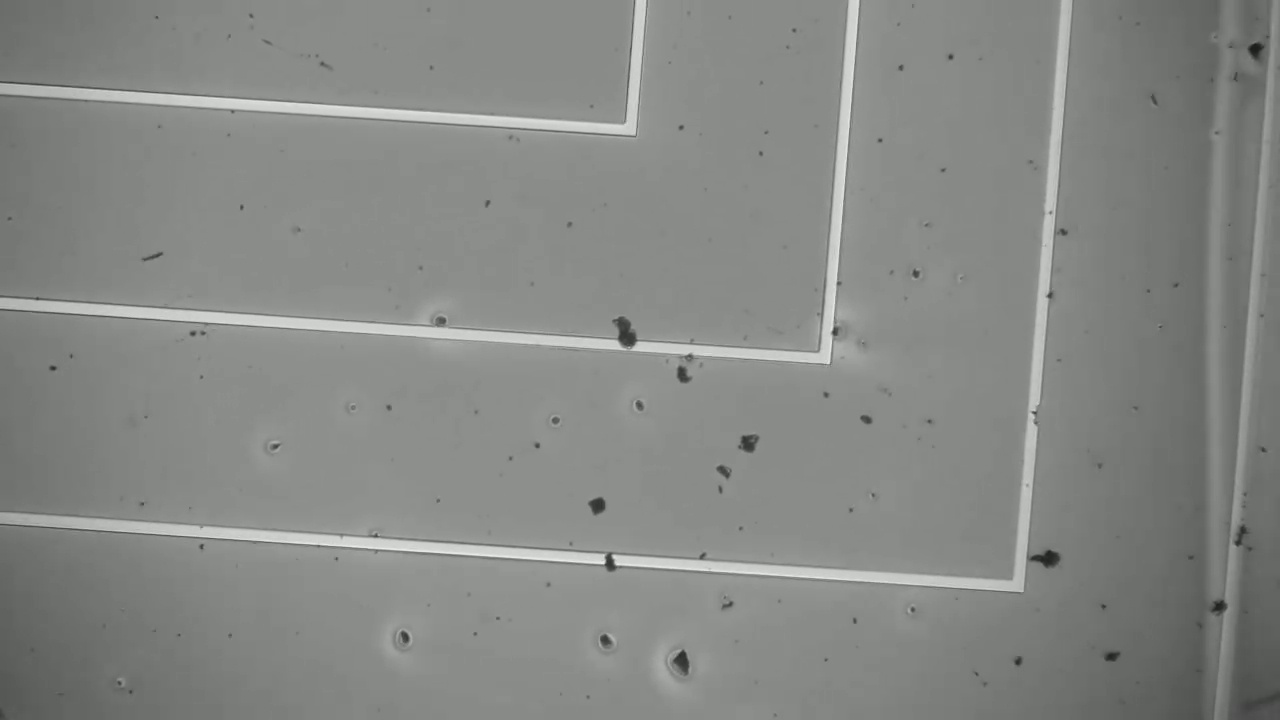edge_bite: (1008, 391, 1054, 437)
stains_enbedded: (606, 311, 640, 362), (594, 547, 624, 581)
